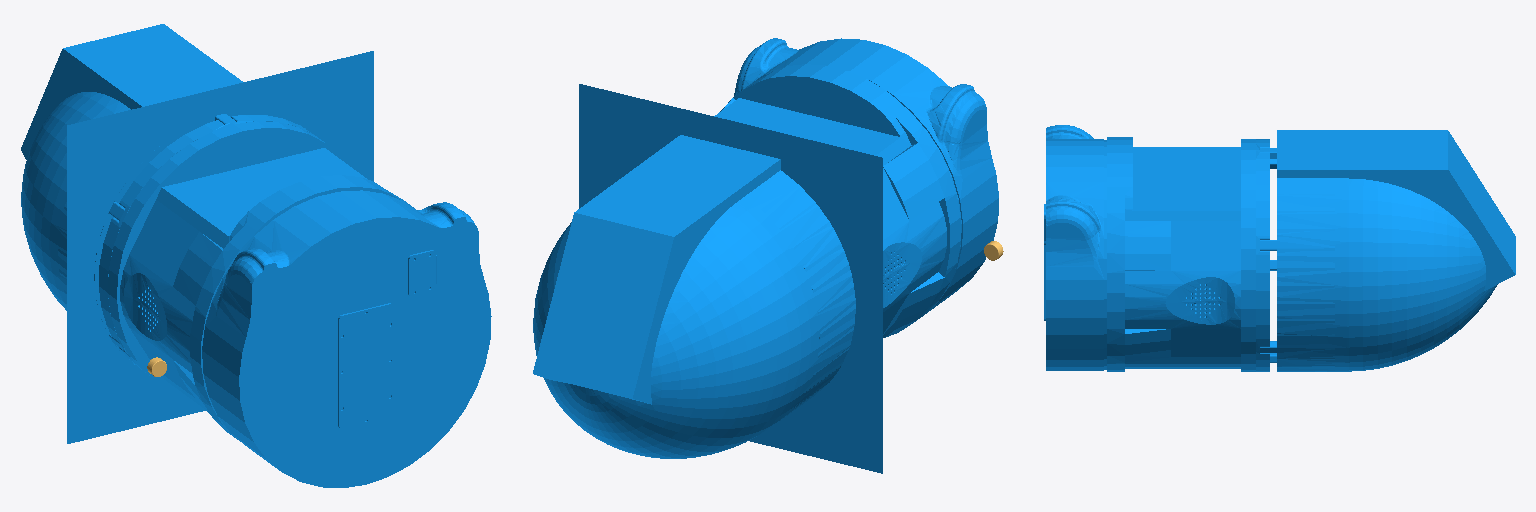
robot.urdf — waiterbot_description:
<robot
  name="waiterbot_description">
  <link name="base_footprint"/>
    <joint name="base_joint" type="fixed">
      <origin xyz="0 0 0.0102" rpy="0 0 0" />
      <parent link="base_footprint"/>
      <child link="base_link" />
    </joint>
  <link
    name="base_link">
    <inertial>
      <origin
        xyz="-0.0996669957747876 1.45131214129999E-05 0.354341697716168"
        rpy="0 0 0" />
      <mass
        value="80.1722695309394" />
      <inertia
        ixx="4.45627593650221"
        ixy="-0.000120784019756137"
        ixz="-0.0663886125014259"
        iyy="4.45433930232212"
        iyz="0.000402253446569661"
        izz="1.47601648850678" />
    </inertial>
    <visual>
      <origin
        xyz="0 0 0"
        rpy="0 0 0" />
      <geometry>
        <mesh
          filename="package://waiterbot_description/meshes/base_link.STL" />
      </geometry>
      <material
        name="">
        <color
          rgba="0.117647058823529 0.658823529411765 1 1" />
      </material>
    </visual>
    <collision>
      <origin
        xyz="0 0 0"
        rpy="0 0 0" />
      <geometry>
        <mesh
          filename="package://waiterbot_description/meshes/base_link.STL" />
      </geometry>
    </collision>
  </link>
  <link
    name="left_wheel_Link">
    <inertial>
      <origin
        xyz="0 0 0"
        rpy="0 0 0" />
      <mass
        value="0.214252405612172" />
      <inertia
        ixx="0.000179109395223178"
        ixy="1.74518243681741E-11"
        ixz="3.57851021254128E-14"
        iyy="0.000301767221213604"
        iyz="7.9272265953424E-14"
        izz="0.000179081236639626" />
    </inertial>
    <visual>
      <origin
        xyz="0 0 0"
        rpy="0 0 0" />
      <geometry>
        <mesh
          filename="package://waiterbot_description/meshes/left_wheel_Link.STL" />
      </geometry>
      <material
        name="">
        <color
          rgba="1 1 1 1" />
      </material>
    </visual>
    <collision>
      <origin
        xyz="0 0 0"
        rpy="0 0 0" />
      <geometry>
        <mesh
          filename="package://waiterbot_description/meshes/left_wheel_Link.STL" />
      </geometry>
    </collision>
  </link>
  <joint
    name="left_wheel_joint"
    type="continuous">
    <origin
      xyz="0 0.147897664300195 0.0274999999693413"
      rpy="0 0 0" />
    <parent
      link="base_link" />
    <child
      link="left_wheel_Link" />
    <axis
      xyz="0 1 0" />
  </joint>
  <link
    name="right_wheel_Link">
    <inertial>
      <origin
        xyz="0 0 0"
        rpy="0 0 0" />
      <mass
        value="0.214252405507579" />
      <inertia
        ixx="0.000179109395198057"
        ixy="-1.75373762792168E-11"
        ixz="-1.0028090968596E-13"
        iyy="0.000301767221051853"
        iyz="6.65719731111029E-14"
        izz="0.000179081236452865" />
    </inertial>
    <visual>
      <origin
        xyz="0 0 0"
        rpy="0 0 0" />
      <geometry>
        <mesh
          filename="package://waiterbot_description/meshes/right_wheel_Link.STL" />
      </geometry>
      <material
        name="">
        <color
          rgba="1 1 1 1" />
      </material>
    </visual>
    <collision>
      <origin
        xyz="0 0 0"
        rpy="0 0 0" />
      <geometry>
        <mesh
          filename="package://waiterbot_description/meshes/right_wheel_Link.STL" />
      </geometry>
    </collision>
  </link>
  <joint
    name="right_wheel_joint"
    type="continuous">
    <origin
      xyz="0 -0.147897664300856 0.0275000000281899"
      rpy="0 0 0" />
    <parent
      link="base_link" />
    <child
      link="right_wheel_Link" />
    <axis
      xyz="0 1 0" />
  </joint>
  <link
    name="omni_wheel_Link">
    <inertial>
      <origin
        xyz="0 6.51512757319569E-20 0"
        rpy="0 0 0" />
      <mass
        value="0.00634815361064737" />
      <inertia
        ixx="3.35342847845056E-07"
        ixy="-2.04764363484238E-18"
        ixz="2.08969324119687E-21"
        iyy="4.93529263557337E-07"
        iyz="1.0919258939827E-15"
        izz="3.35312650108157E-07" />
    </inertial>
    <visual>
      <origin
        xyz="0 0 0"
        rpy="0 0 0" />
      <geometry>
        <mesh
          filename="package://waiterbot_description/meshes/omni_wheel_Link.STL" />
      </geometry>
      <material
        name="">
        <color
          rgba="1 0.807843137254902 0.458823529411765 1" />
      </material>
    </visual>
    <collision>
      <origin
        xyz="0 0 0"
        rpy="0 0 0" />
      <geometry>
        <mesh
          filename="package://waiterbot_description/meshes/omni_wheel_Link.STL" />
      </geometry>
    </collision>
  </link>
  <joint
    name="omni_wheel_joint"
    type="fixed">
    <origin
      xyz="-0.260000004749928 0 -0.0100000000089026"
      rpy="0 0 0" />
    <parent
      link="base_link" />
    <child
      link="omni_wheel_Link" />
    <axis
      xyz="0 0 0" />
  </joint>
  <!--link
    name="kinect2_link">
    <inertial>
      <origin
        xyz="5.00413110110391E-05 0.143804354117406 0.112167590252249"
        rpy="0 0 0" />
      <mass
        value="0.819847601278127" />
      <inertia
        ixx="0.00058543011881325"
        ixy="-3.87035163303318E-07"
        ixz="-3.91817878812889E-09"
        iyy="0.00432193908675339"
        iyz="2.63136905263757E-05"
        izz="0.00416131242714742" />
    </inertial>
    <visual>
      <origin
        xyz="0 0 0"
        rpy="0 0 0" />
      <geometry>
        <mesh
          filename="package://waiterbot_description/meshes/kinect2_link.STL" />
      </geometry>
      <material
        name="">
        <color
          rgba="0.549019607843137 0.219607843137255 0.109803921568627 1" />
      </material>
    </visual>
    <collision>
      <origin
        xyz="0 0 0"
        rpy="0 0 0" />
      <geometry>
        <mesh
          filename="package://waiterbot_description/meshes/kinect2_link.STL" />
      </geometry>
    </collision>
  </link>
  <joint
    name="kinect2_joint"
    type="fixed">
    <origin
      xyz="-0.1 0 0.12"
      rpy="1.5707963267949 0 1.5707963267949" />
    <parent
      link="base_link" />
    <child
      link="kinect2_link" />
    <axis
      xyz="0 0 0" />
  </joint-->

  <!--link
    name="camera_link">
    <inertial>
      <origin
        xyz="1.3878E-17 1.1102E-16 -0.00026767"
        rpy="0 0 0" />
      <mass
        value="0.154" />
      <inertia
        ixx="2.4237E-05"
        ixy="-9.6537E-22"
        ixz="-8.3256E-21"
        iyy="0.00041068"
        iyz="-2.6916E-22"
        izz="0.00040212" />
    </inertial>
    <visual>
      <origin
        xyz="0 0 0"
        rpy="1.5708 0 1.5708" />
      <geometry>
        <mesh
          filename="package://water_description/meshes/camera_link.stl" />
      </geometry>
      <material
        name="">
        <color
          rgba="0.2 0.2 0.2 1" />
      </material>
    </visual>
    <collision>
      <origin
        xyz="0 0 0"
        rpy="0 0 0" />
      <geometry>
        <mesh
          filename="package://water_description/meshes/camera_link.stl" />
      </geometry>
    </collision>
  </link>
  <joint
    name="camera_joint"
    type="fixed">
    <origin
      xyz="0.0121675902522488 5.0041311011069E-05 0.263804354117406"
      rpy="0 -4.482E-31 0" />
    <parent
      link="base_link" />
    <child
      link="camera_link" />
    <axis
      xyz="0 0 0" />
  </joint-->
  <!--for camera sensor model -->
      <!--joint name="camera_depth_joint" type="fixed">
        <origin xyz="0.0 0.049 0.0" rpy="0 0 0" />
        <parent link="camera_link" />
        <child link="camera_depth_frame"/>
      </joint>
      <link name="camera_depth_frame"/>

      <joint name="camera_depth_optical_joint" type="fixed">
        <origin xyz="0 0 0" rpy="-1.5708 0.0 -1.5708" />
        <parent link="camera_depth_frame" />
        <child link="camera_depth_optical_frame"/>
      </joint>

      <link name="camera_depth_optical_frame"/>

      <joint name="camera_rgb_joint" type="fixed">
        <origin xyz="0.0 0.022 0.0" rpy="0 0 0" />
        <parent link="camera_link" />
        <child link="camera_rgb_frame"/>
      </joint>

      <link name="camera_rgb_frame"/>

      <joint name="camera_rgb_optical_joint" type="fixed">
        <origin xyz="0 0 0" rpy="-1.5708 0.0 -1.5708" />
        <parent link="camera_rgb_frame" />
        <child link="camera_rgb_optical_frame"/>
      </joint>
      <link name="camera_rgb_optical_frame"/-->
</robot>

--- Render facts (derived) ---
Views: 3 orthographic renders of the robot side by side, from view 1: azimuth 30°, elevation 25°; view 2: azimuth 150°, elevation 25°; view 3: azimuth 270°, elevation 25°.
Model waiterbot_description with 5 links and 4 joints (2 continuous, 2 fixed), rooted at base_footprint, posed every joint at zero.
Links seen in each view (by area): view 1: base_link; view 2: base_link; view 3: base_link.
Boxes of the visible links, box(x1,y1,x2,y2) form: base_link: box(21, 24, 491, 487); base_link: box(533, 38, 998, 473); base_link: box(1044, 125, 1515, 371).
Bounding box of the posed robot: 0.5154 × 0.81 × 0.4827 m (x, y, z).
3 mesh visuals loaded from 4 distinct referenced files (3 binary STL); not drawn: 1 (reference not matched to a file when rendering).